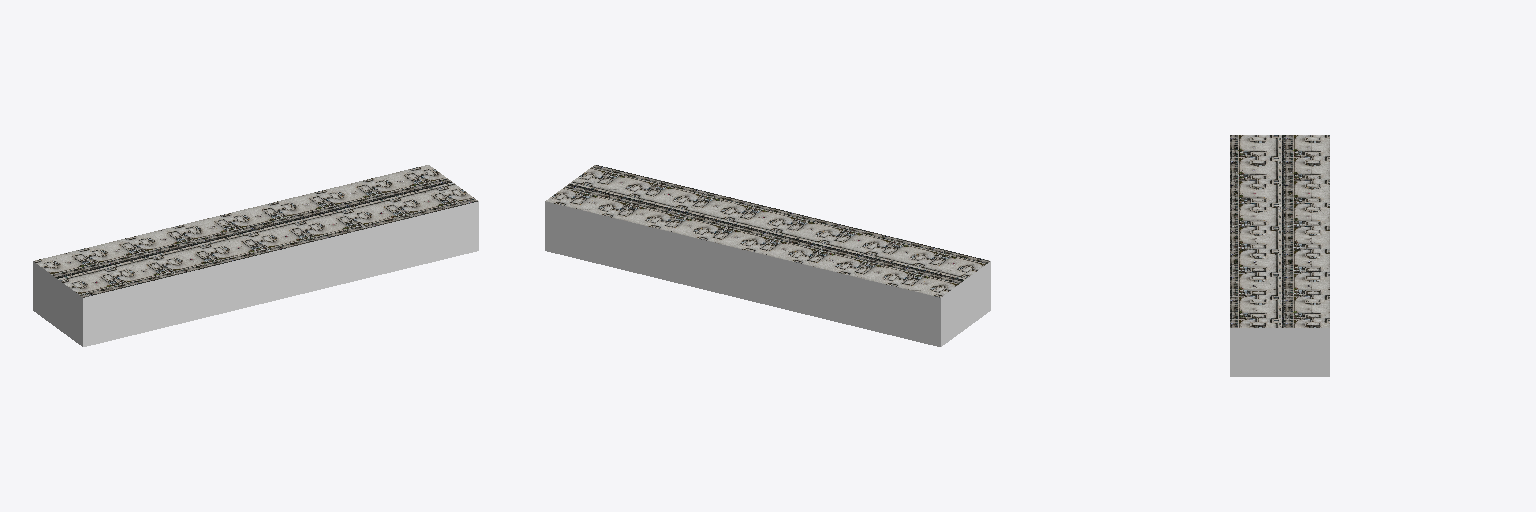
3 renders of one model, left to right at view 1: azimuth 30°, elevation 25°; view 2: azimuth 150°, elevation 25°; view 3: azimuth 270°, elevation 25°, orthographic.
Visible parts, largest first — view 1: Building_25.[number redacted]_5.[number redacted]; view 2: Building_25.[number redacted]_5.[number redacted]; view 3: Building_25.[number redacted]_5.[number redacted].
Boxes of the visible parts, box(x1,y1,x2,y2) form: Building_25.[number redacted]_5.[number redacted]: box(33, 165, 478, 346); Building_25.[number redacted]_5.[number redacted]: box(545, 165, 990, 346); Building_25.[number redacted]_5.[number redacted]: box(1230, 135, 1329, 376).
Bounding box in the file's own units: 25.04 × 3 × 5.51.
Materials: 2 (1 with a texture image).